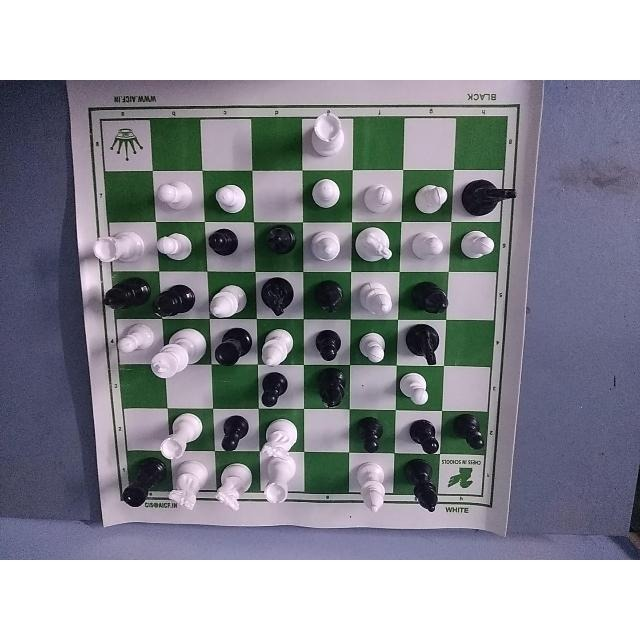black-bishop: (404, 458, 449, 513), (155, 274, 198, 318), (315, 368, 349, 420), (103, 278, 150, 312), (414, 277, 450, 319), (263, 222, 299, 261)
black-knight: (464, 177, 518, 219), (406, 322, 443, 365), (259, 274, 294, 318)
black-pawn: (448, 415, 492, 457), (207, 226, 249, 268), (357, 413, 397, 453), (216, 410, 251, 453), (404, 417, 443, 455), (316, 327, 348, 366), (260, 371, 291, 405)
black-rook: (121, 458, 165, 508), (217, 328, 251, 370)
white-bishop: (358, 458, 396, 513), (207, 274, 246, 319), (259, 325, 297, 369), (305, 226, 345, 267), (356, 279, 392, 319)
white-king: (158, 328, 206, 378)
white-knight: (260, 419, 314, 460), (172, 460, 206, 516), (356, 226, 393, 272), (218, 468, 254, 514)
white-pawn: (410, 172, 449, 220), (306, 175, 350, 214), (454, 225, 498, 264), (360, 177, 400, 217), (158, 175, 196, 217), (112, 325, 153, 363), (204, 183, 252, 213), (154, 224, 190, 264), (358, 325, 391, 367), (399, 371, 434, 410), (409, 228, 442, 264)
white-rook: (305, 112, 352, 156), (158, 411, 201, 456), (95, 234, 142, 266), (264, 464, 302, 500)
